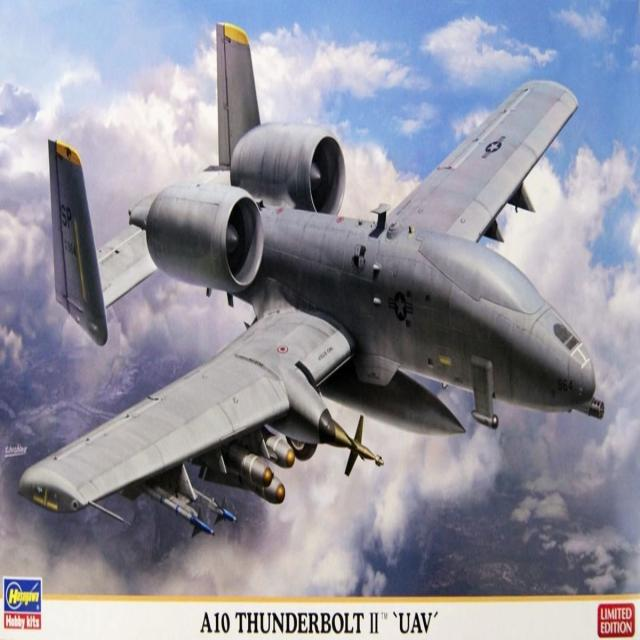A10: (16, 15, 615, 547)
